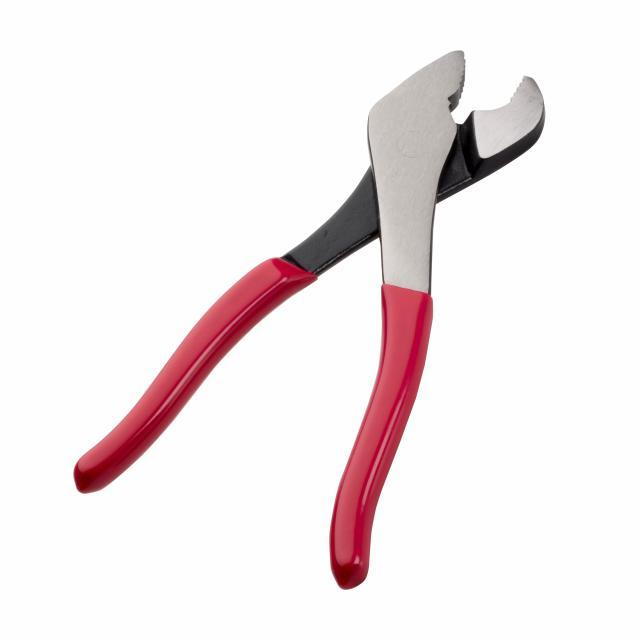pliers: (60, 36, 554, 596)
